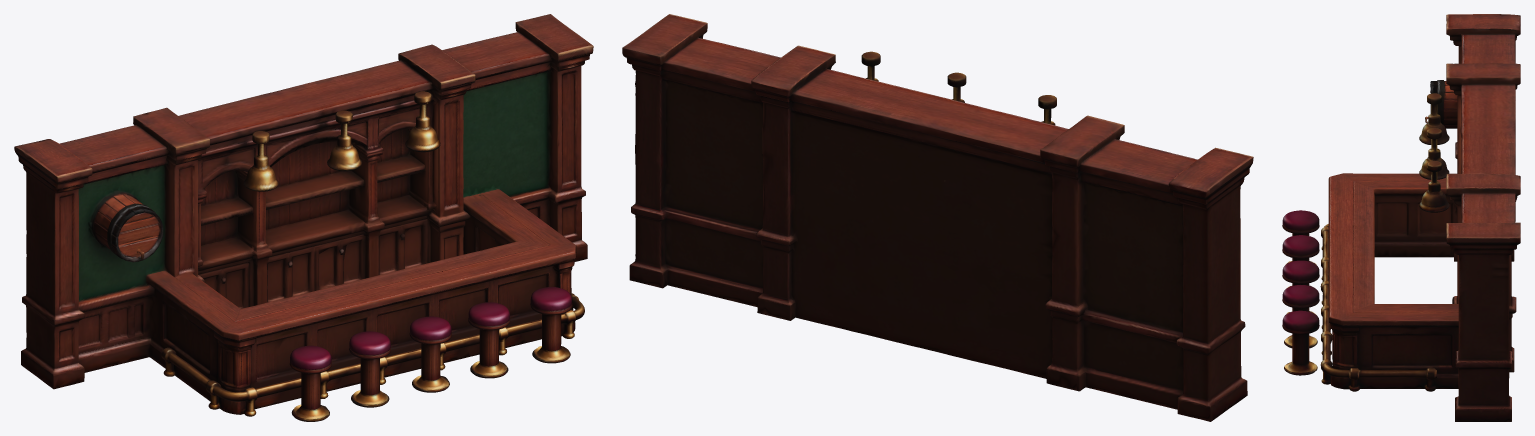
Rendered from wall-bar.glb.
3 views of the same model, side by side, from view 1: azimuth 30°, elevation 25°; view 2: azimuth 150°, elevation 25°; view 3: azimuth 270°, elevation 25° (orthographic). The views are drawn at different scales.
Parts seen in each view (by area): view 1: tripo_node_72f1c8cb-0d08-4cf4-9747-a67d105589e3; view 2: tripo_node_72f1c8cb-0d08-4cf4-9747-a67d105589e3; view 3: tripo_node_72f1c8cb-0d08-4cf4-9747-a67d105589e3.
Part boxes in pixels (box(x1,y1,x2,y2)): tripo_node_72f1c8cb-0d08-4cf4-9747-a67d105589e3: box(14, 14, 593, 421); tripo_node_72f1c8cb-0d08-4cf4-9747-a67d105589e3: box(622, 14, 1253, 421); tripo_node_72f1c8cb-0d08-4cf4-9747-a67d105589e3: box(1282, 14, 1520, 421).
Bounding box in the file's own units: 0.982 × 0.3796 × 0.442.
1 material, 1 textured.
